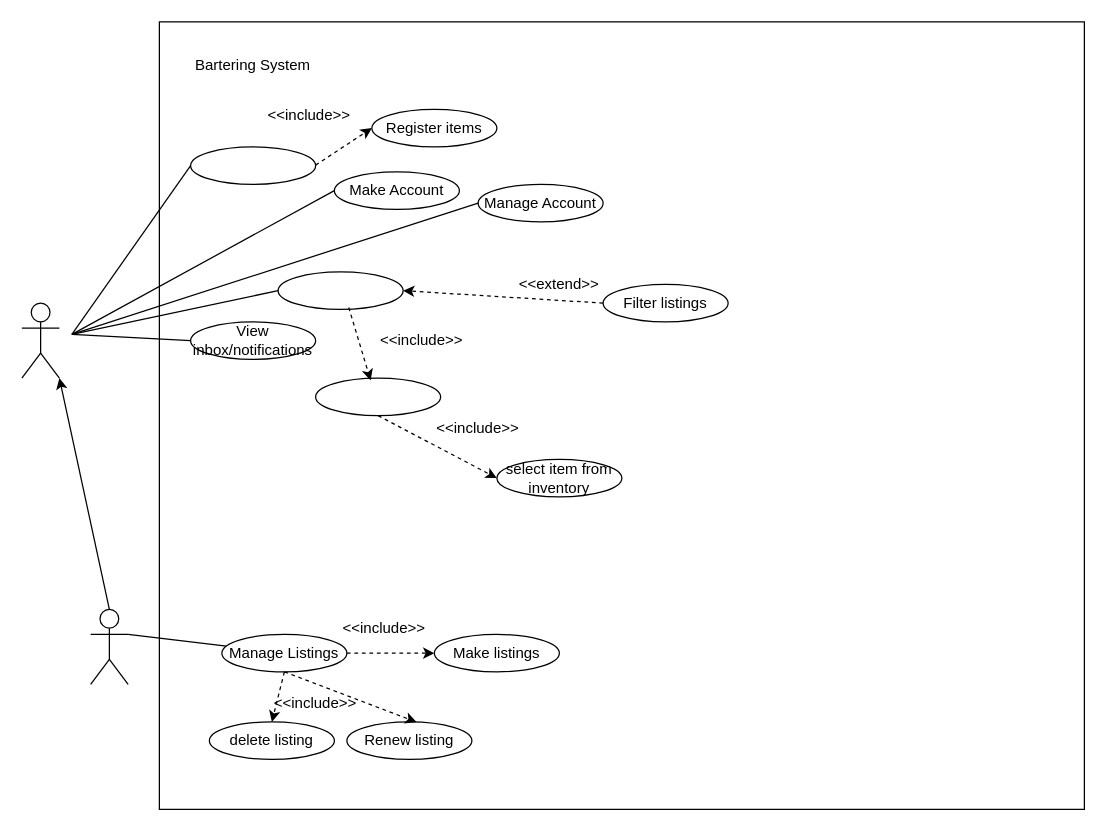
Image size: 1106x831. Some labels were removed from this diagram. The shapes that lost their labels are listed below. From the top down, each one's centre as x and y in pixels, then its label:
At pixel 252 165: "View user inventory".
At pixel 340 290: "View listings".
At pixel 40 340: "Users".
At pixel 377 396: "Make bids".
At pixel 108 646: "lister".
